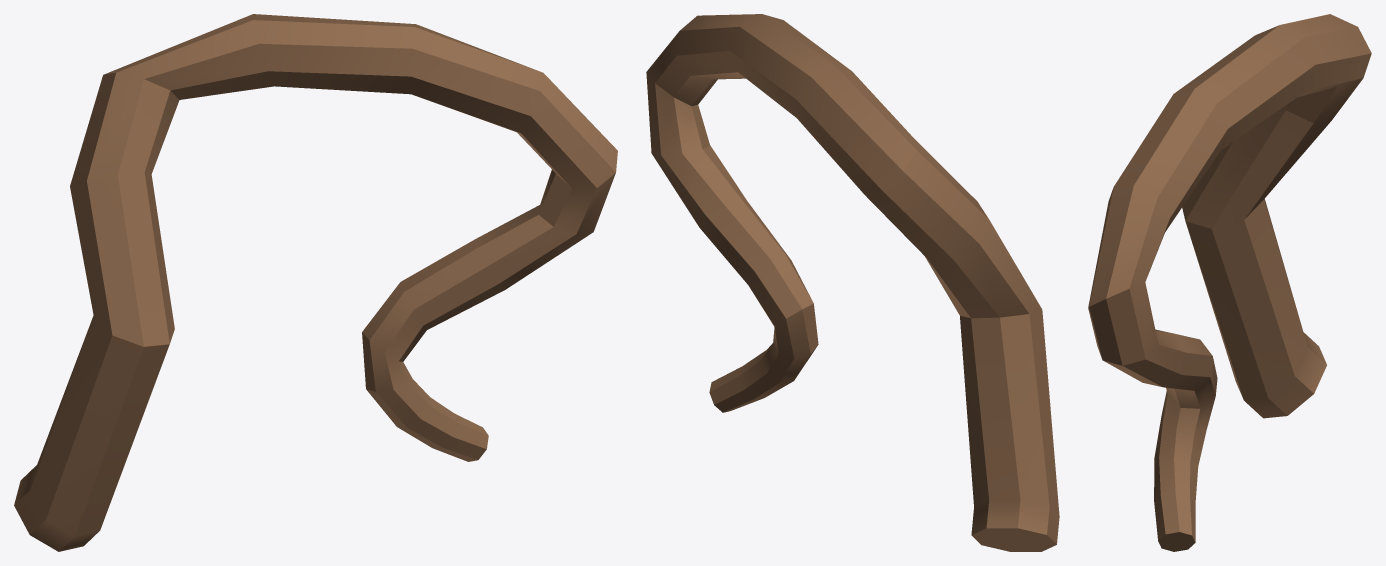
3 renders of one model, left to right at view 1: azimuth 30°, elevation 25°; view 2: azimuth 150°, elevation 25°; view 3: azimuth 270°, elevation 25°, orthographic. The views are drawn at different scales.
Parts seen in each view (by area): view 1: pCylinder2; view 2: pCylinder2; view 3: pCylinder2.
Boxes of the visible parts, x1,y1,x2,y2 form: pCylinder2: (14,14,617,551); pCylinder2: (646,14,1059,551); pCylinder2: (1088,14,1371,551).
Size of the model in its own units: 7.06 by 6.3 by 3.37.
